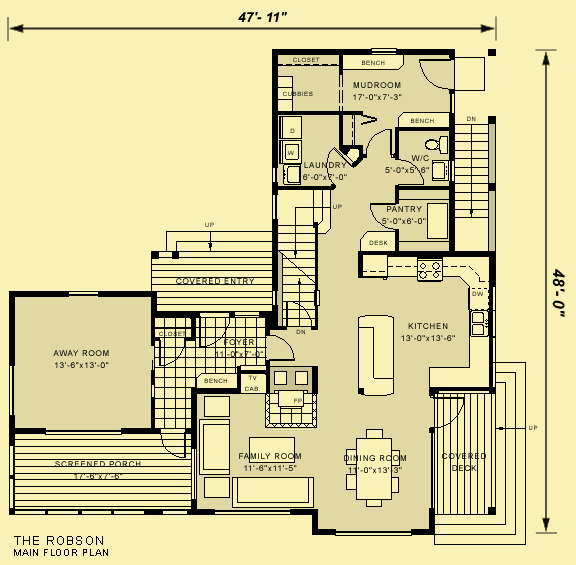dining table: (341, 426, 406, 511)
door: (416, 55, 458, 93), (196, 306, 233, 349), (429, 393, 469, 432), (319, 144, 357, 185), (366, 198, 406, 230), (157, 425, 190, 461), (265, 330, 299, 364), (157, 333, 189, 369), (392, 155, 427, 187), (363, 126, 396, 158)
kitchen bar: (352, 311, 397, 400)
large sink: (421, 133, 453, 157)
large sofa: (230, 472, 322, 508), (197, 417, 235, 478)
small sofa: (200, 394, 235, 421), (202, 476, 232, 502)
stairs: (276, 185, 344, 335), (454, 112, 495, 256)
twin sink: (467, 308, 491, 341)
windows: (11, 505, 151, 518), (6, 441, 21, 514), (333, 526, 414, 538), (44, 426, 132, 436), (5, 362, 18, 419), (67, 285, 102, 301), (369, 46, 403, 58), (269, 189, 281, 223)
